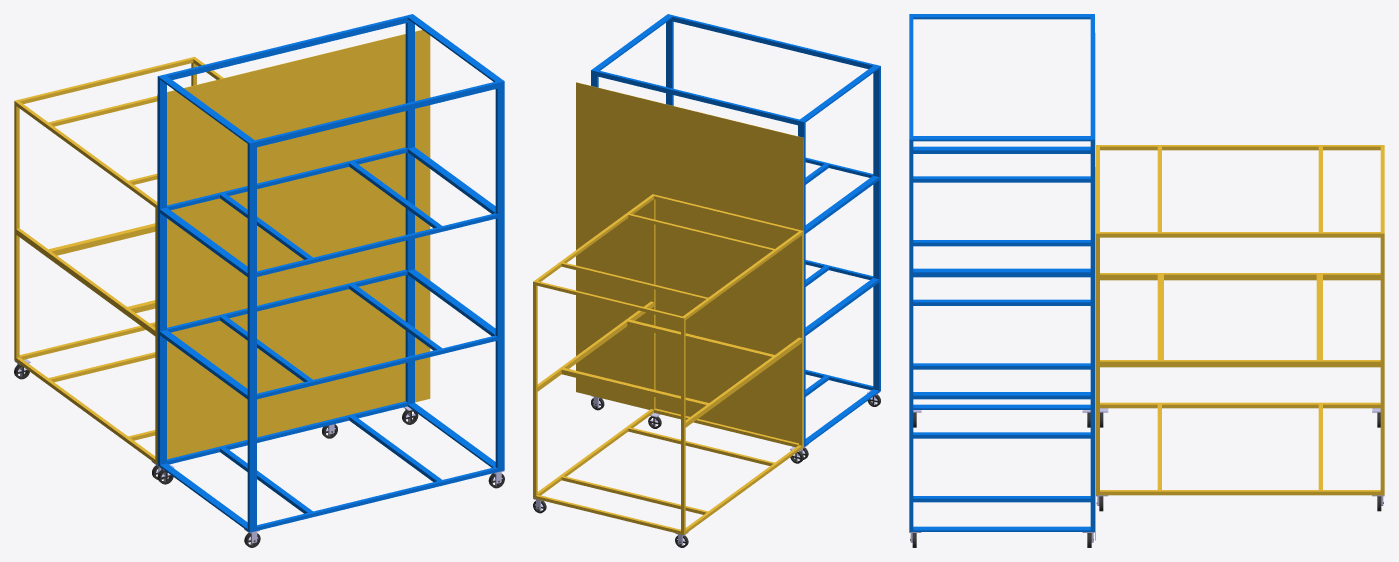
File: Stockage.fbx
3 views of the same model, side by side, from view 1: azimuth 30°, elevation 25°; view 2: azimuth 150°, elevation 25°; view 3: azimuth 270°, elevation 25° (orthographic). The views are drawn at different scales.
Parts seen in each view (by area): view 1: stockage1, stockage002, stockage2; view 2: stockage1, stockage2, stockage002; view 3: stockage002, stockage2.
Boxes of the visible parts, bbox=[...] form: stockage1: bbox=[157, 30, 430, 464]; stockage002: bbox=[157, 14, 504, 532]; stockage2: bbox=[14, 56, 223, 464]; stockage1: bbox=[576, 82, 803, 447]; stockage2: bbox=[533, 194, 803, 534]; stockage002: bbox=[591, 14, 880, 446]; stockage002: bbox=[909, 14, 1094, 531]; stockage2: bbox=[1096, 145, 1384, 495].
Size of the model in its own units: 155 by 220 by 231.
